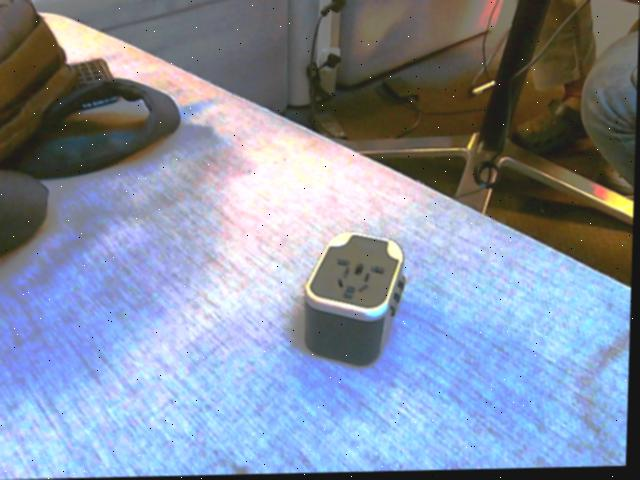adapter: (303, 231, 408, 369)
